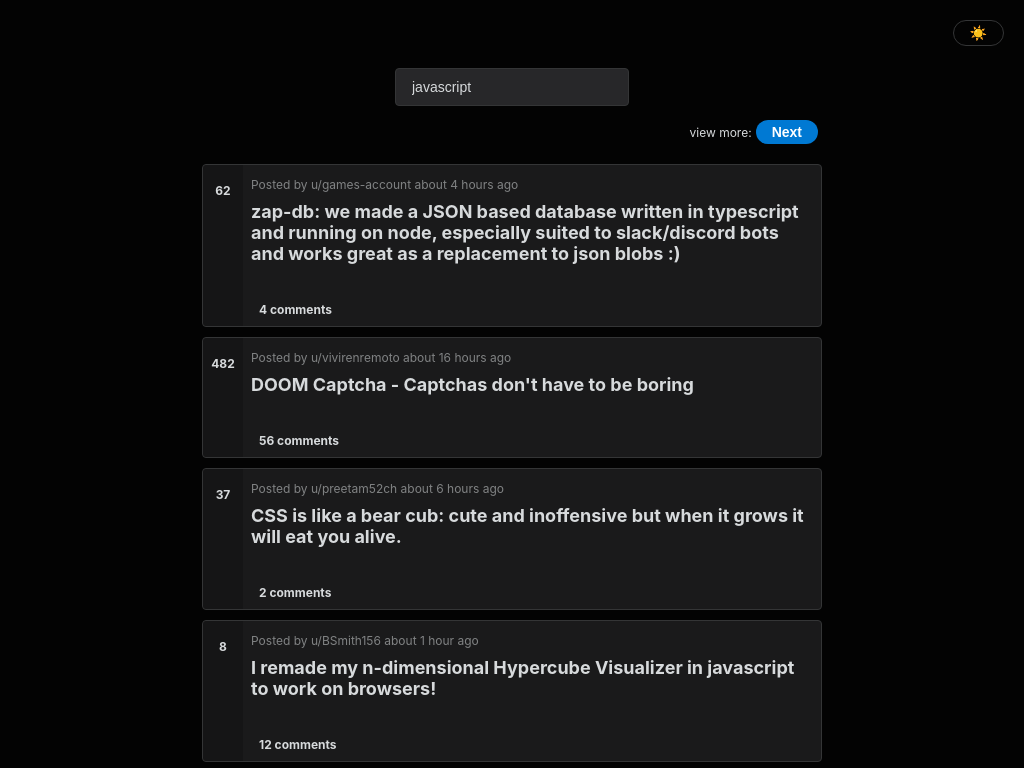
Test: render next page when clicking next
Expected: the heading named "zap-db: we made a json based database written in typescript and running on node, especially suited to slack/discord bo" is shown, top-left (251, 201), bottom-right (813, 264)
Expected: the text "view more:" is shown, top-left (690, 124), bottom-right (752, 140)
Click the button "Next".
click(787, 132)  # box top-left (756, 120), bottom-right (818, 144)
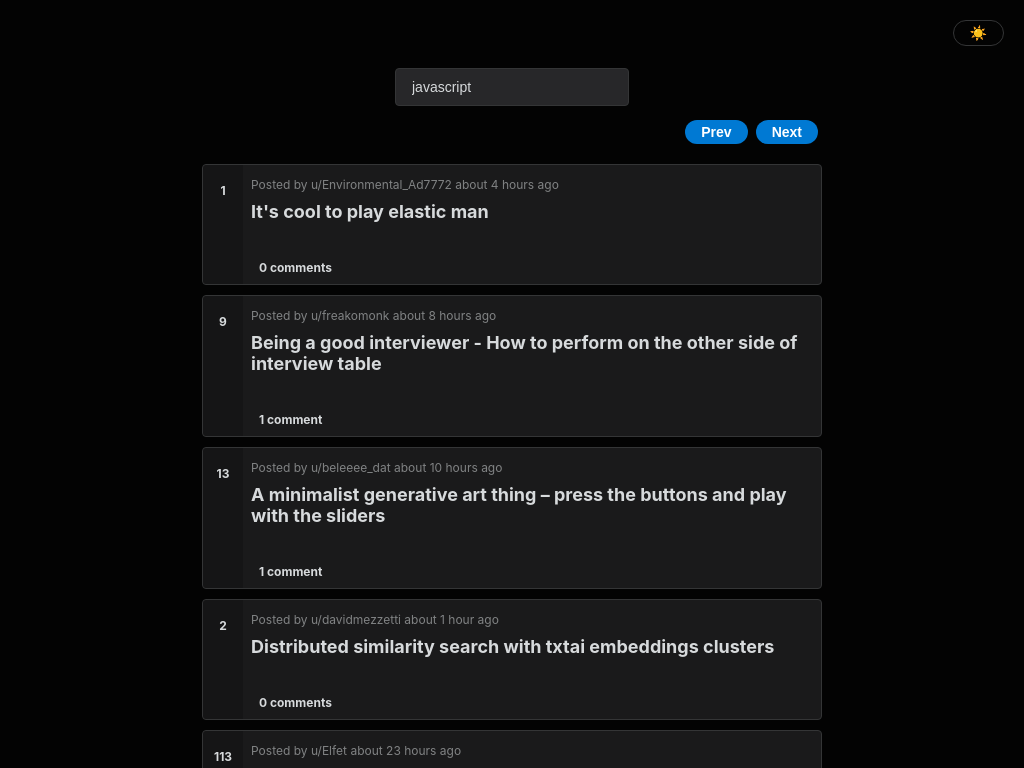
Expected: the heading "It's cool to play elastic man" is shown, top-left (251, 201), bottom-right (489, 222)
Expected: the button "Prev" is shown, top-left (685, 120), bottom-right (748, 144)
